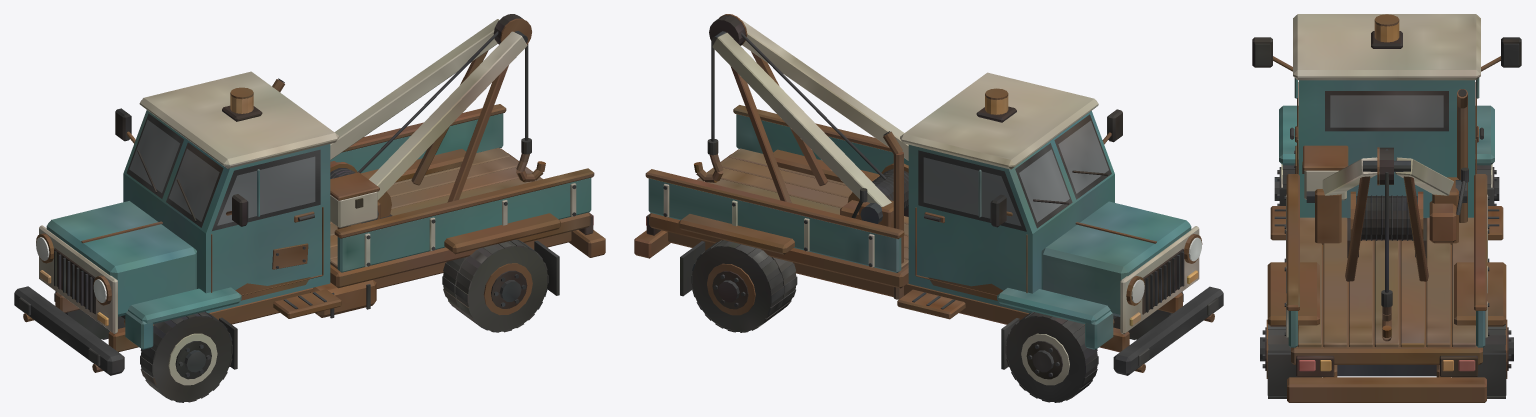
Rendered from JV27_old_tow_truck.glb.
The picture shows the model from 3 angles, left to right: view 1: azimuth 30°, elevation 25°; view 2: azimuth 150°, elevation 25°; view 3: azimuth 270°, elevation 25°; orthographic projection. The views are drawn at different scales.
Visible parts, largest first — view 1: Chassis rail; view 2: Chassis rail; view 3: Chassis rail.
Part boxes in pixels (x1,y1,x2,y2): Chassis rail: [14, 14, 605, 402]; Chassis rail: [634, 14, 1223, 402]; Chassis rail: [1252, 14, 1521, 402].
Bounding box in the file's own units: 7 × 3.46 × 3.06.
Materials: 13 (12 with a texture image).
